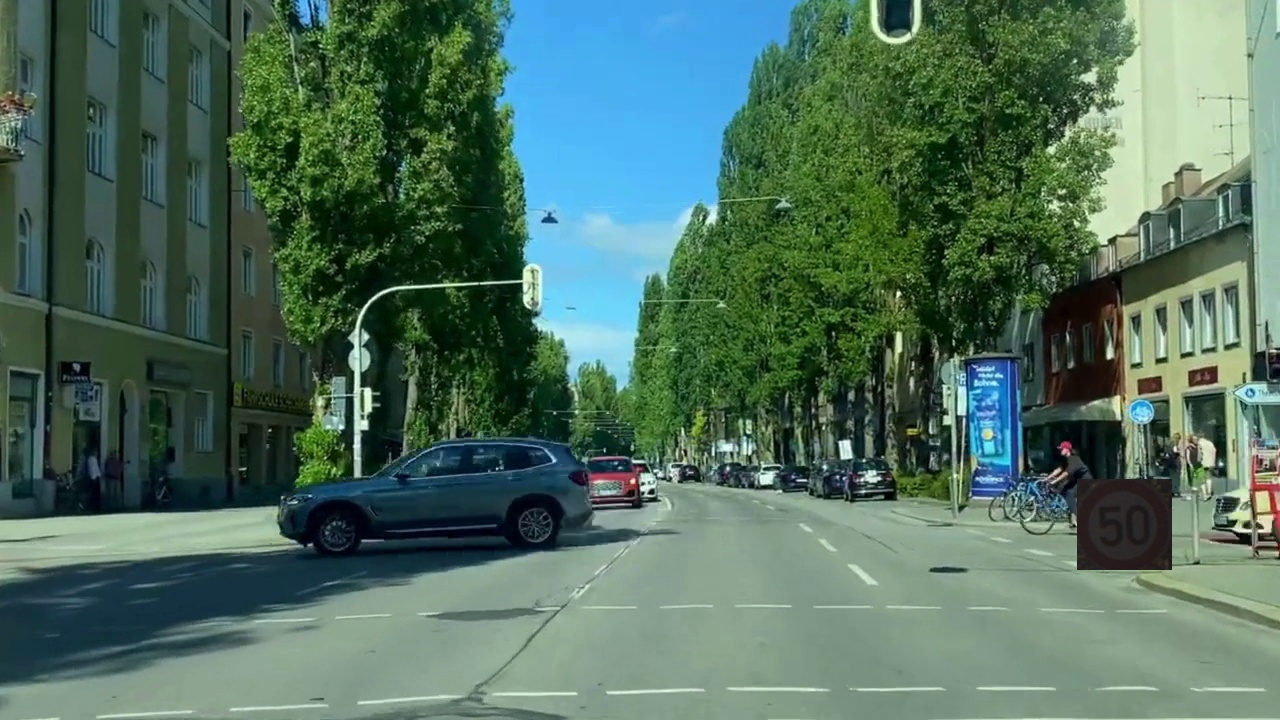Speed 50: (1077, 479, 1172, 570)
